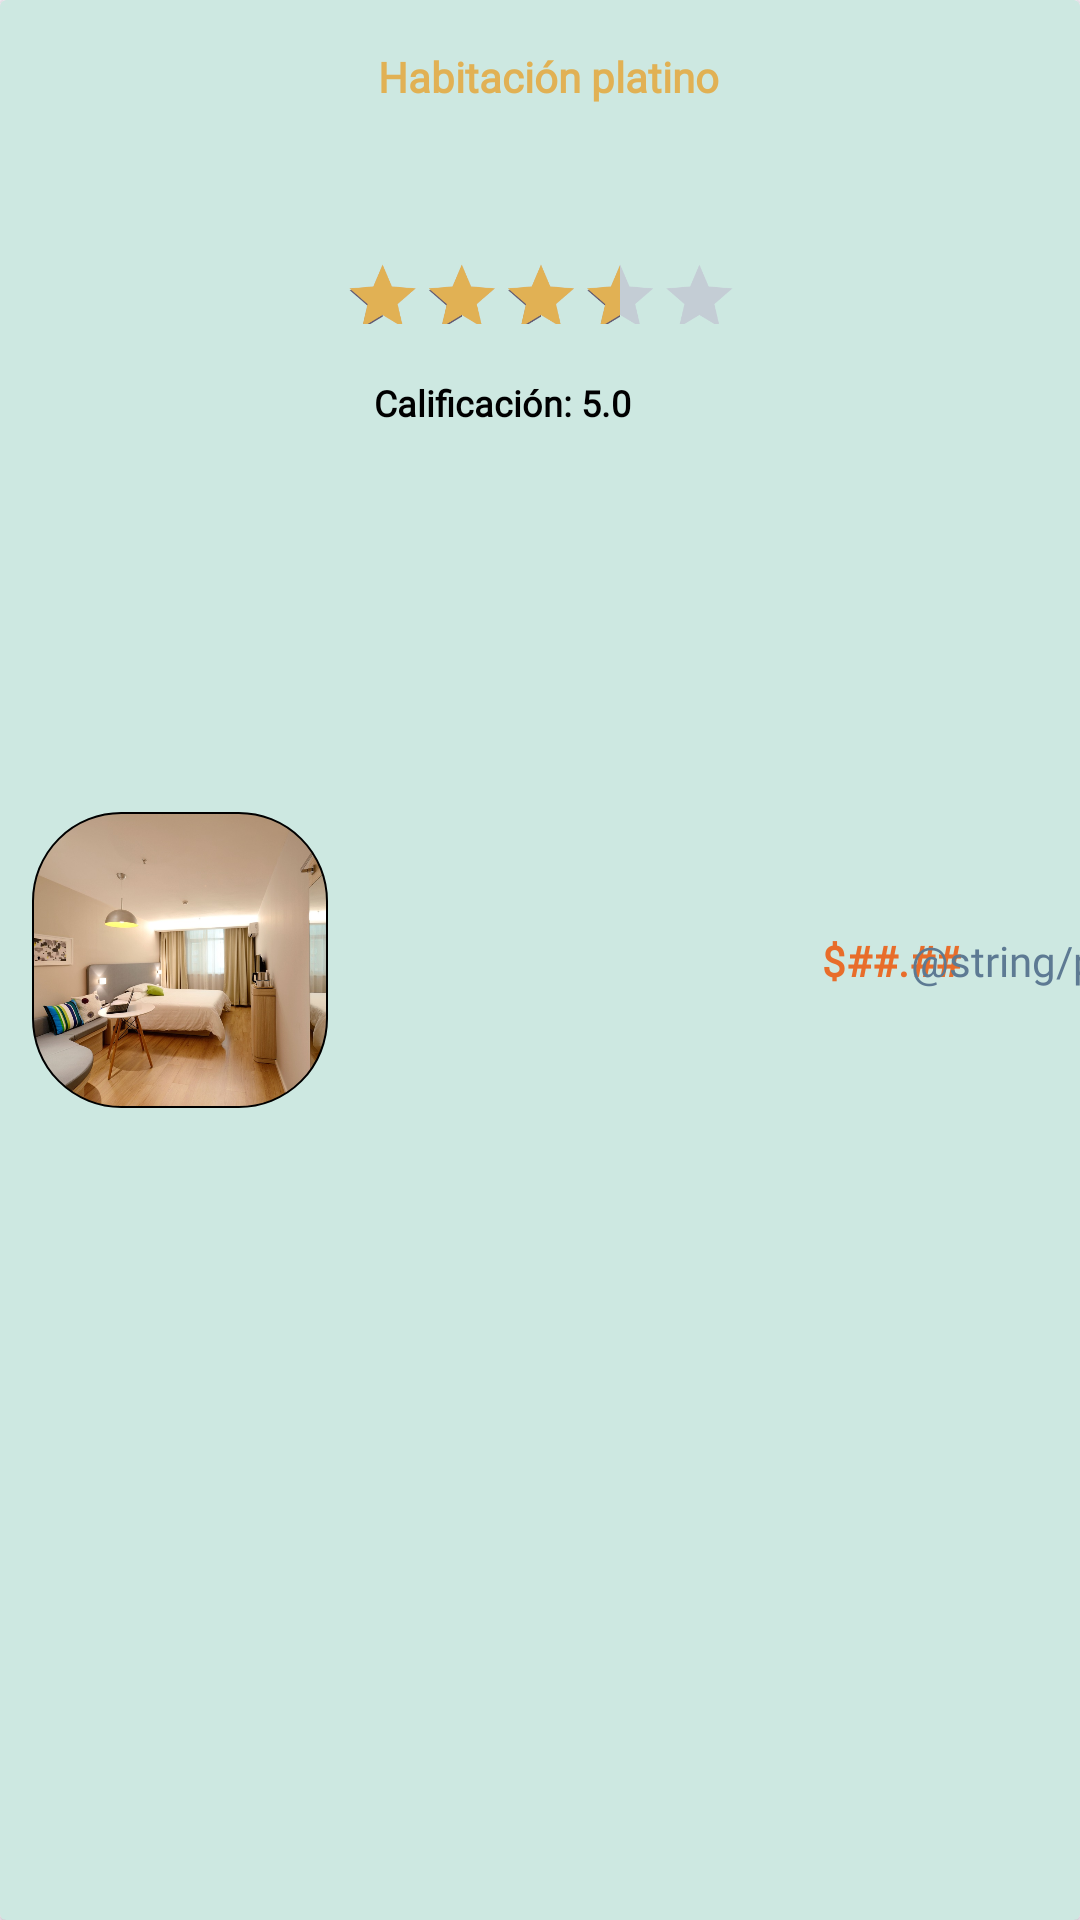

Where icons sit on this 1080x1920 app screen, as BBox(x1, y1, x2, y2):
habitacion uno: BBox(32, 812, 328, 1108)
